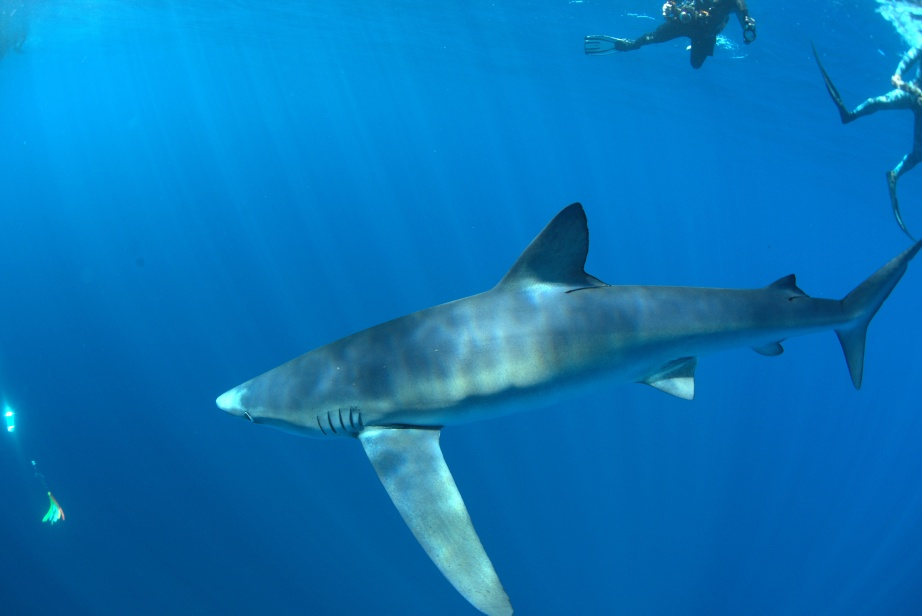Azul: (196, 195, 917, 615)
